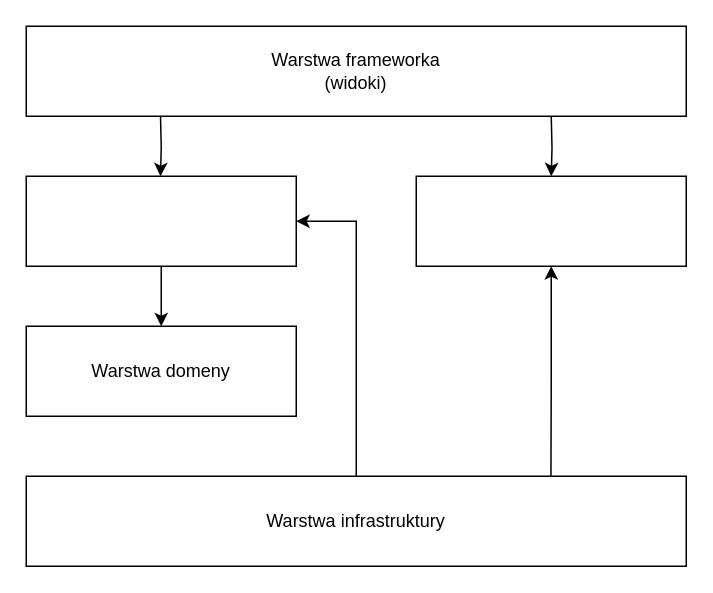
Some shapes in this 713 by 593 pixel diagram are drawn without their labels. Here are the shapes that lost their labels. From the top down, the box of each, then its label:
(25, 175, 296, 266): Warstwa aplikacji
(415, 175, 686, 266): Zapytania
